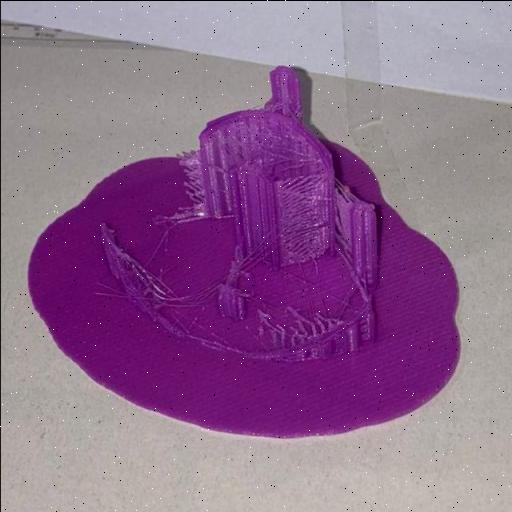stringing: (275, 177, 322, 213), (283, 214, 323, 256), (144, 274, 178, 308), (264, 322, 298, 346), (183, 154, 205, 188), (186, 181, 208, 215), (308, 312, 340, 330)
